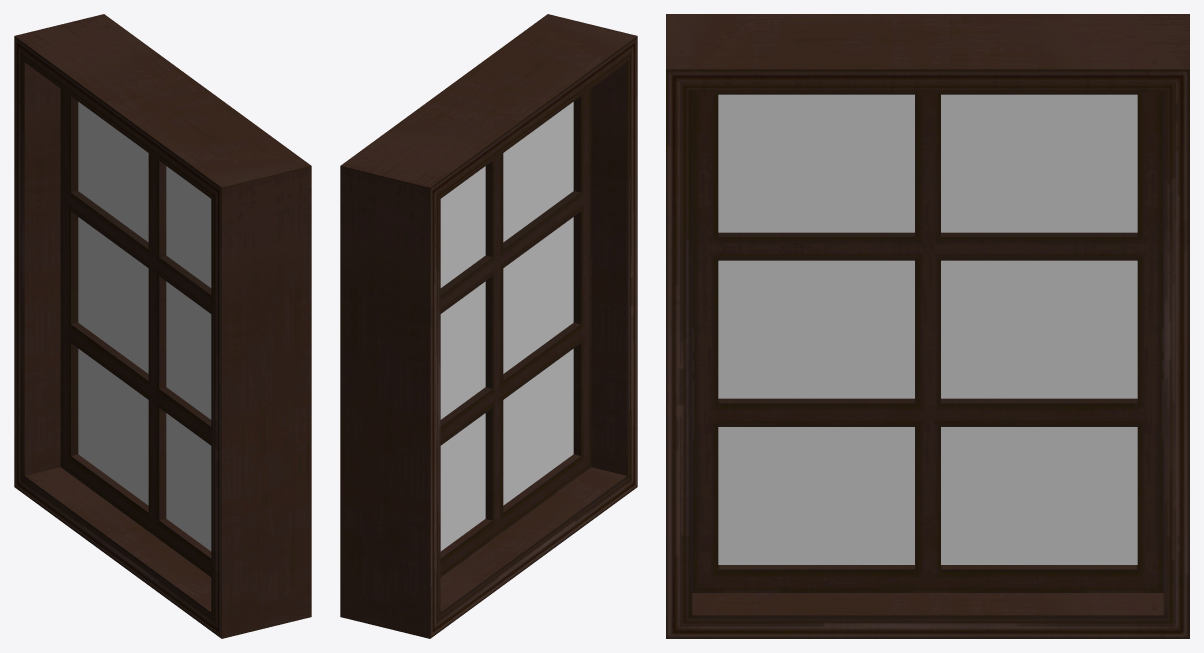
The model's file is window_m2_drops.fbx.
3 renders of one model, left to right at view 1: azimuth 30°, elevation 25°; view 2: azimuth 150°, elevation 25°; view 3: azimuth 270°, elevation 25°, orthographic. The views are drawn at different scales.
Visible parts, largest first — view 1: window_mainframe, window_pane; view 2: window_mainframe, window_pane; view 3: window_pane, window_mainframe.
Part boxes in pixels (x1,y1,x2,y2): window_mainframe: (14,14,311,638); window_pane: (60,89,211,576); window_mainframe: (340,14,637,638); window_pane: (440,89,591,576); window_pane: (692,93,1163,592); window_mainframe: (666,14,1189,638).
Bounding box in the file's own units: 2 × 0.5 × 2.4.
